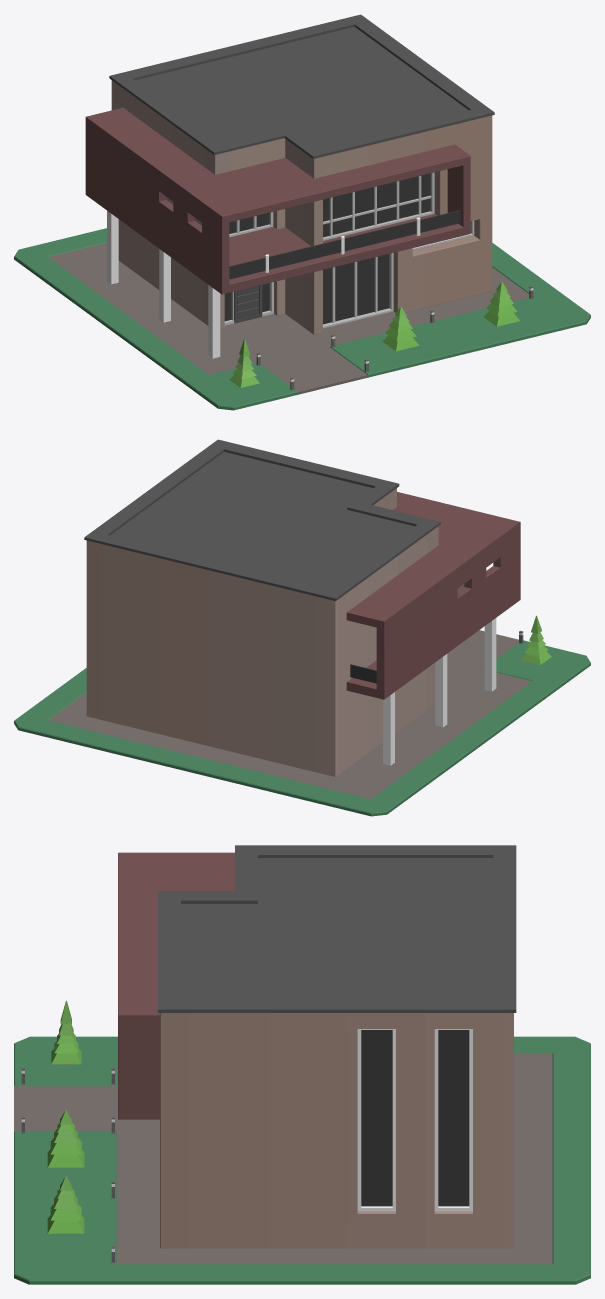
The model's file is house-04.glb.
3 renders of one model, top to bottom at view 1: azimuth 30°, elevation 25°; view 2: azimuth 150°, elevation 25°; view 3: azimuth 270°, elevation 25°, orthographic. The views are drawn at different scales.
Parts seen in each view (by area): view 1: house_04; view 2: house_04; view 3: house_04.
Part boxes in pixels (bbox=[...]): house_04: bbox=[14, 14, 590, 410]; house_04: bbox=[14, 439, 590, 816]; house_04: bbox=[14, 845, 590, 1284].
Bounding box in the file's own units: 15 × 6.99 × 15.
Materials: 1 (1 with a texture image).
